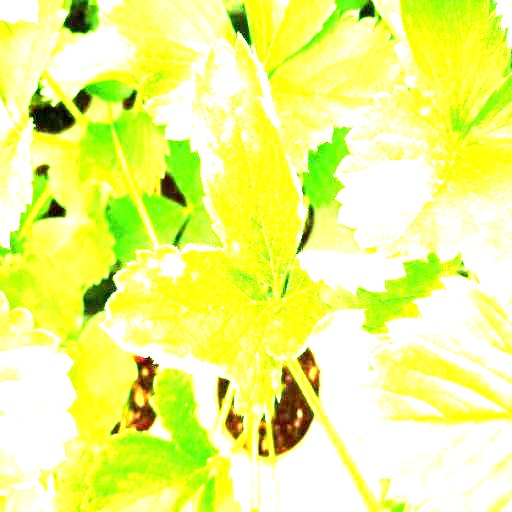Powdery Mildew Leaf: (346, 261, 511, 511), (100, 244, 284, 434), (186, 31, 308, 286), (263, 250, 463, 361), (0, 293, 78, 496)
